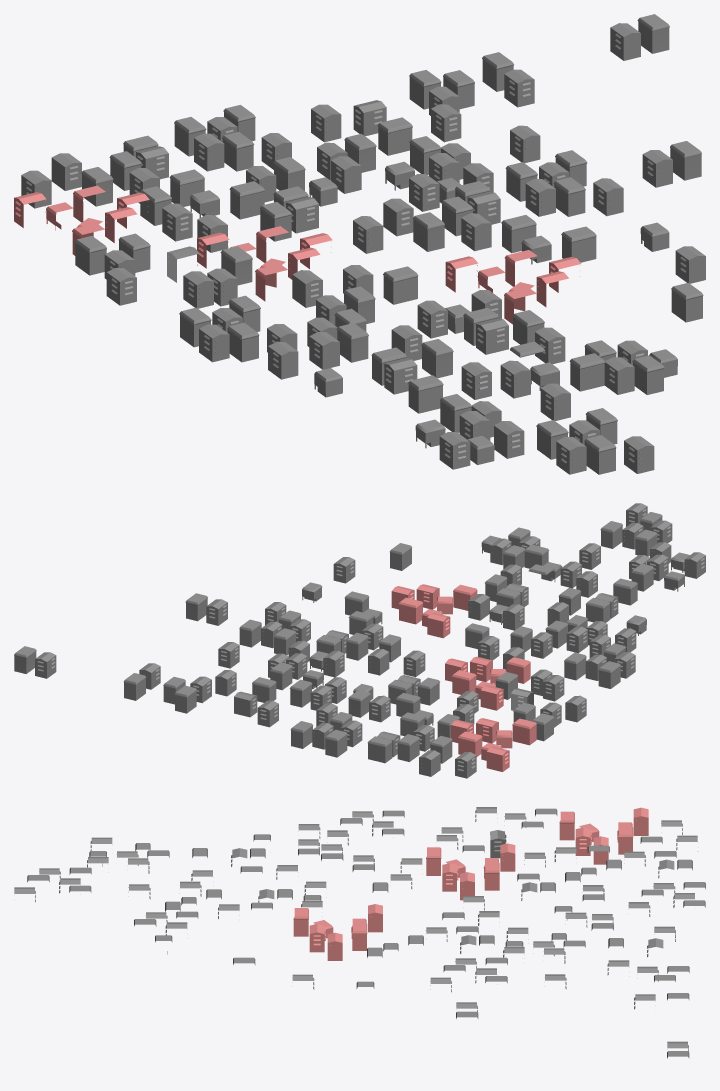
File: SM_ENV_KNVLLG03_House_Distance_D.gltf
3 views of the same model, one above another, from view 1: azimuth 30°, elevation 25°; view 2: azimuth 150°, elevation 25°; view 3: azimuth 270°, elevation 25° (orthographic). The views are drawn at different scales.
Parts seen in each view (by area): view 1: SM_ENV_KNVLLG03_House_Distance_D; view 2: SM_ENV_KNVLLG03_House_Distance_D; view 3: SM_ENV_KNVLLG03_House_Distance_D.
Boxes of the visible parts, bbox=[...] form: SM_ENV_KNVLLG03_House_Distance_D: bbox=[14, 14, 705, 474]; SM_ENV_KNVLLG03_House_Distance_D: bbox=[14, 503, 705, 778]; SM_ENV_KNVLLG03_House_Distance_D: bbox=[14, 807, 705, 1058].
Size of the model in its own units: 582 by 21.7 by 674.
